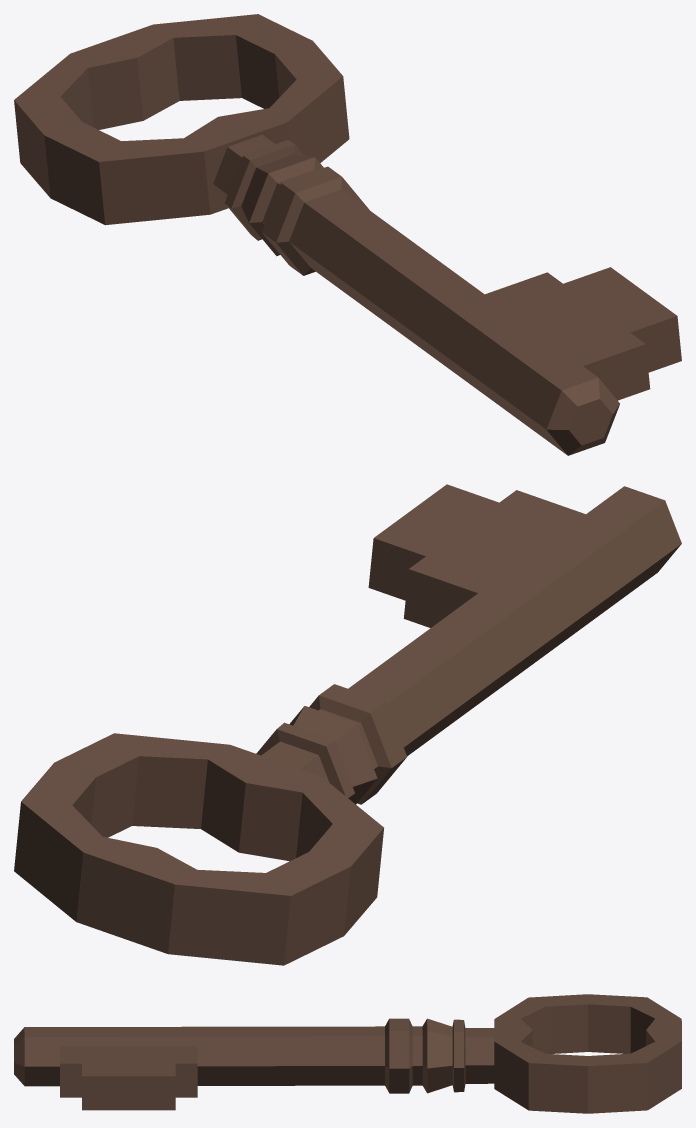
Rendered from Key1.glb.
3 renders of one model, top to bottom at view 1: azimuth 30°, elevation 25°; view 2: azimuth 150°, elevation 25°; view 3: azimuth 270°, elevation 25°, orthographic. The views are drawn at different scales.
Visible parts, largest first — view 1: Key1; view 2: Key1; view 3: Key1.
Boxes of the visible parts, bbox=[...] form: Key1: bbox=[14, 14, 681, 455]; Key1: bbox=[14, 484, 681, 965]; Key1: bbox=[14, 994, 681, 1113].
Size of the model in its own units: 0.1169 by 0.0381 by 0.3466.
